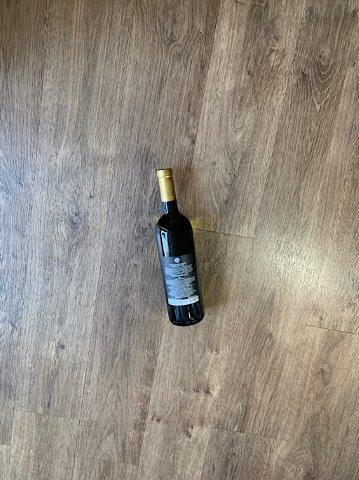botolkaca: (154, 169, 205, 326)
